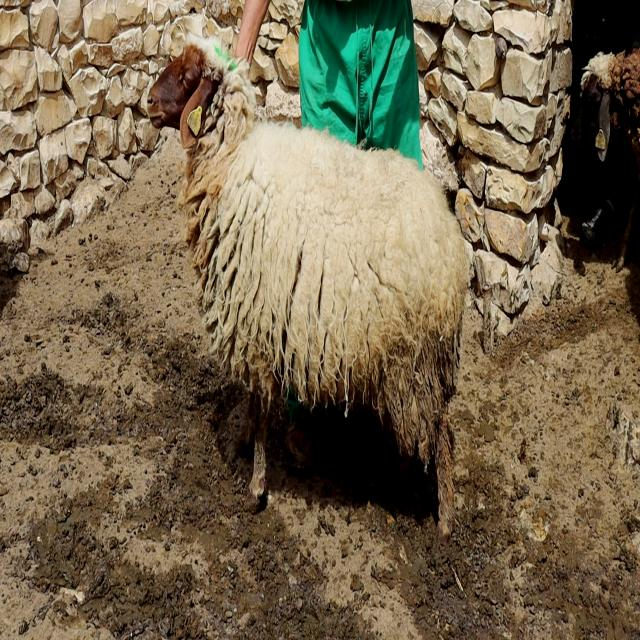Score_3: (147, 34, 469, 536)
